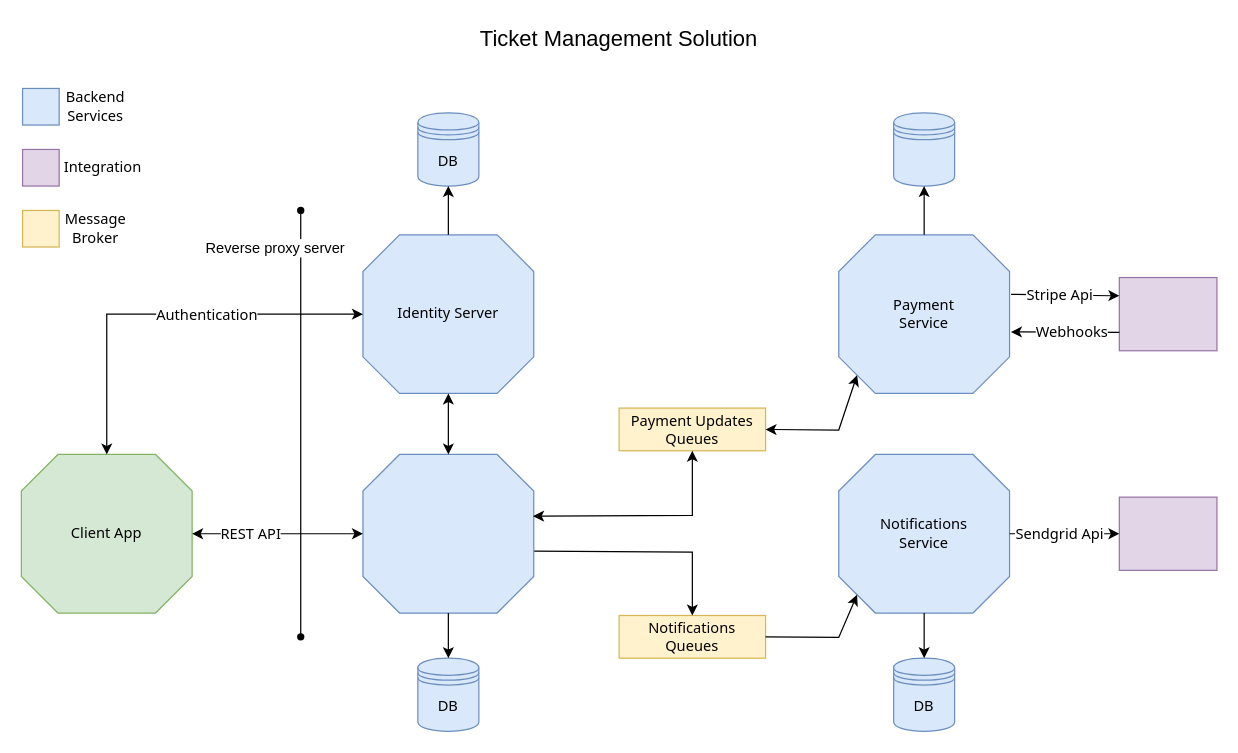
This 1238x753 diagram has some shape labels left out. The shapes that lost their labels are listed below. From the top down, each one's centre as x and y in pixels, then its label:
[923,149]: Event Store
[1167,313]: Stripe
[448,533]: Ticketing Service
[1167,533]: SendGrid
